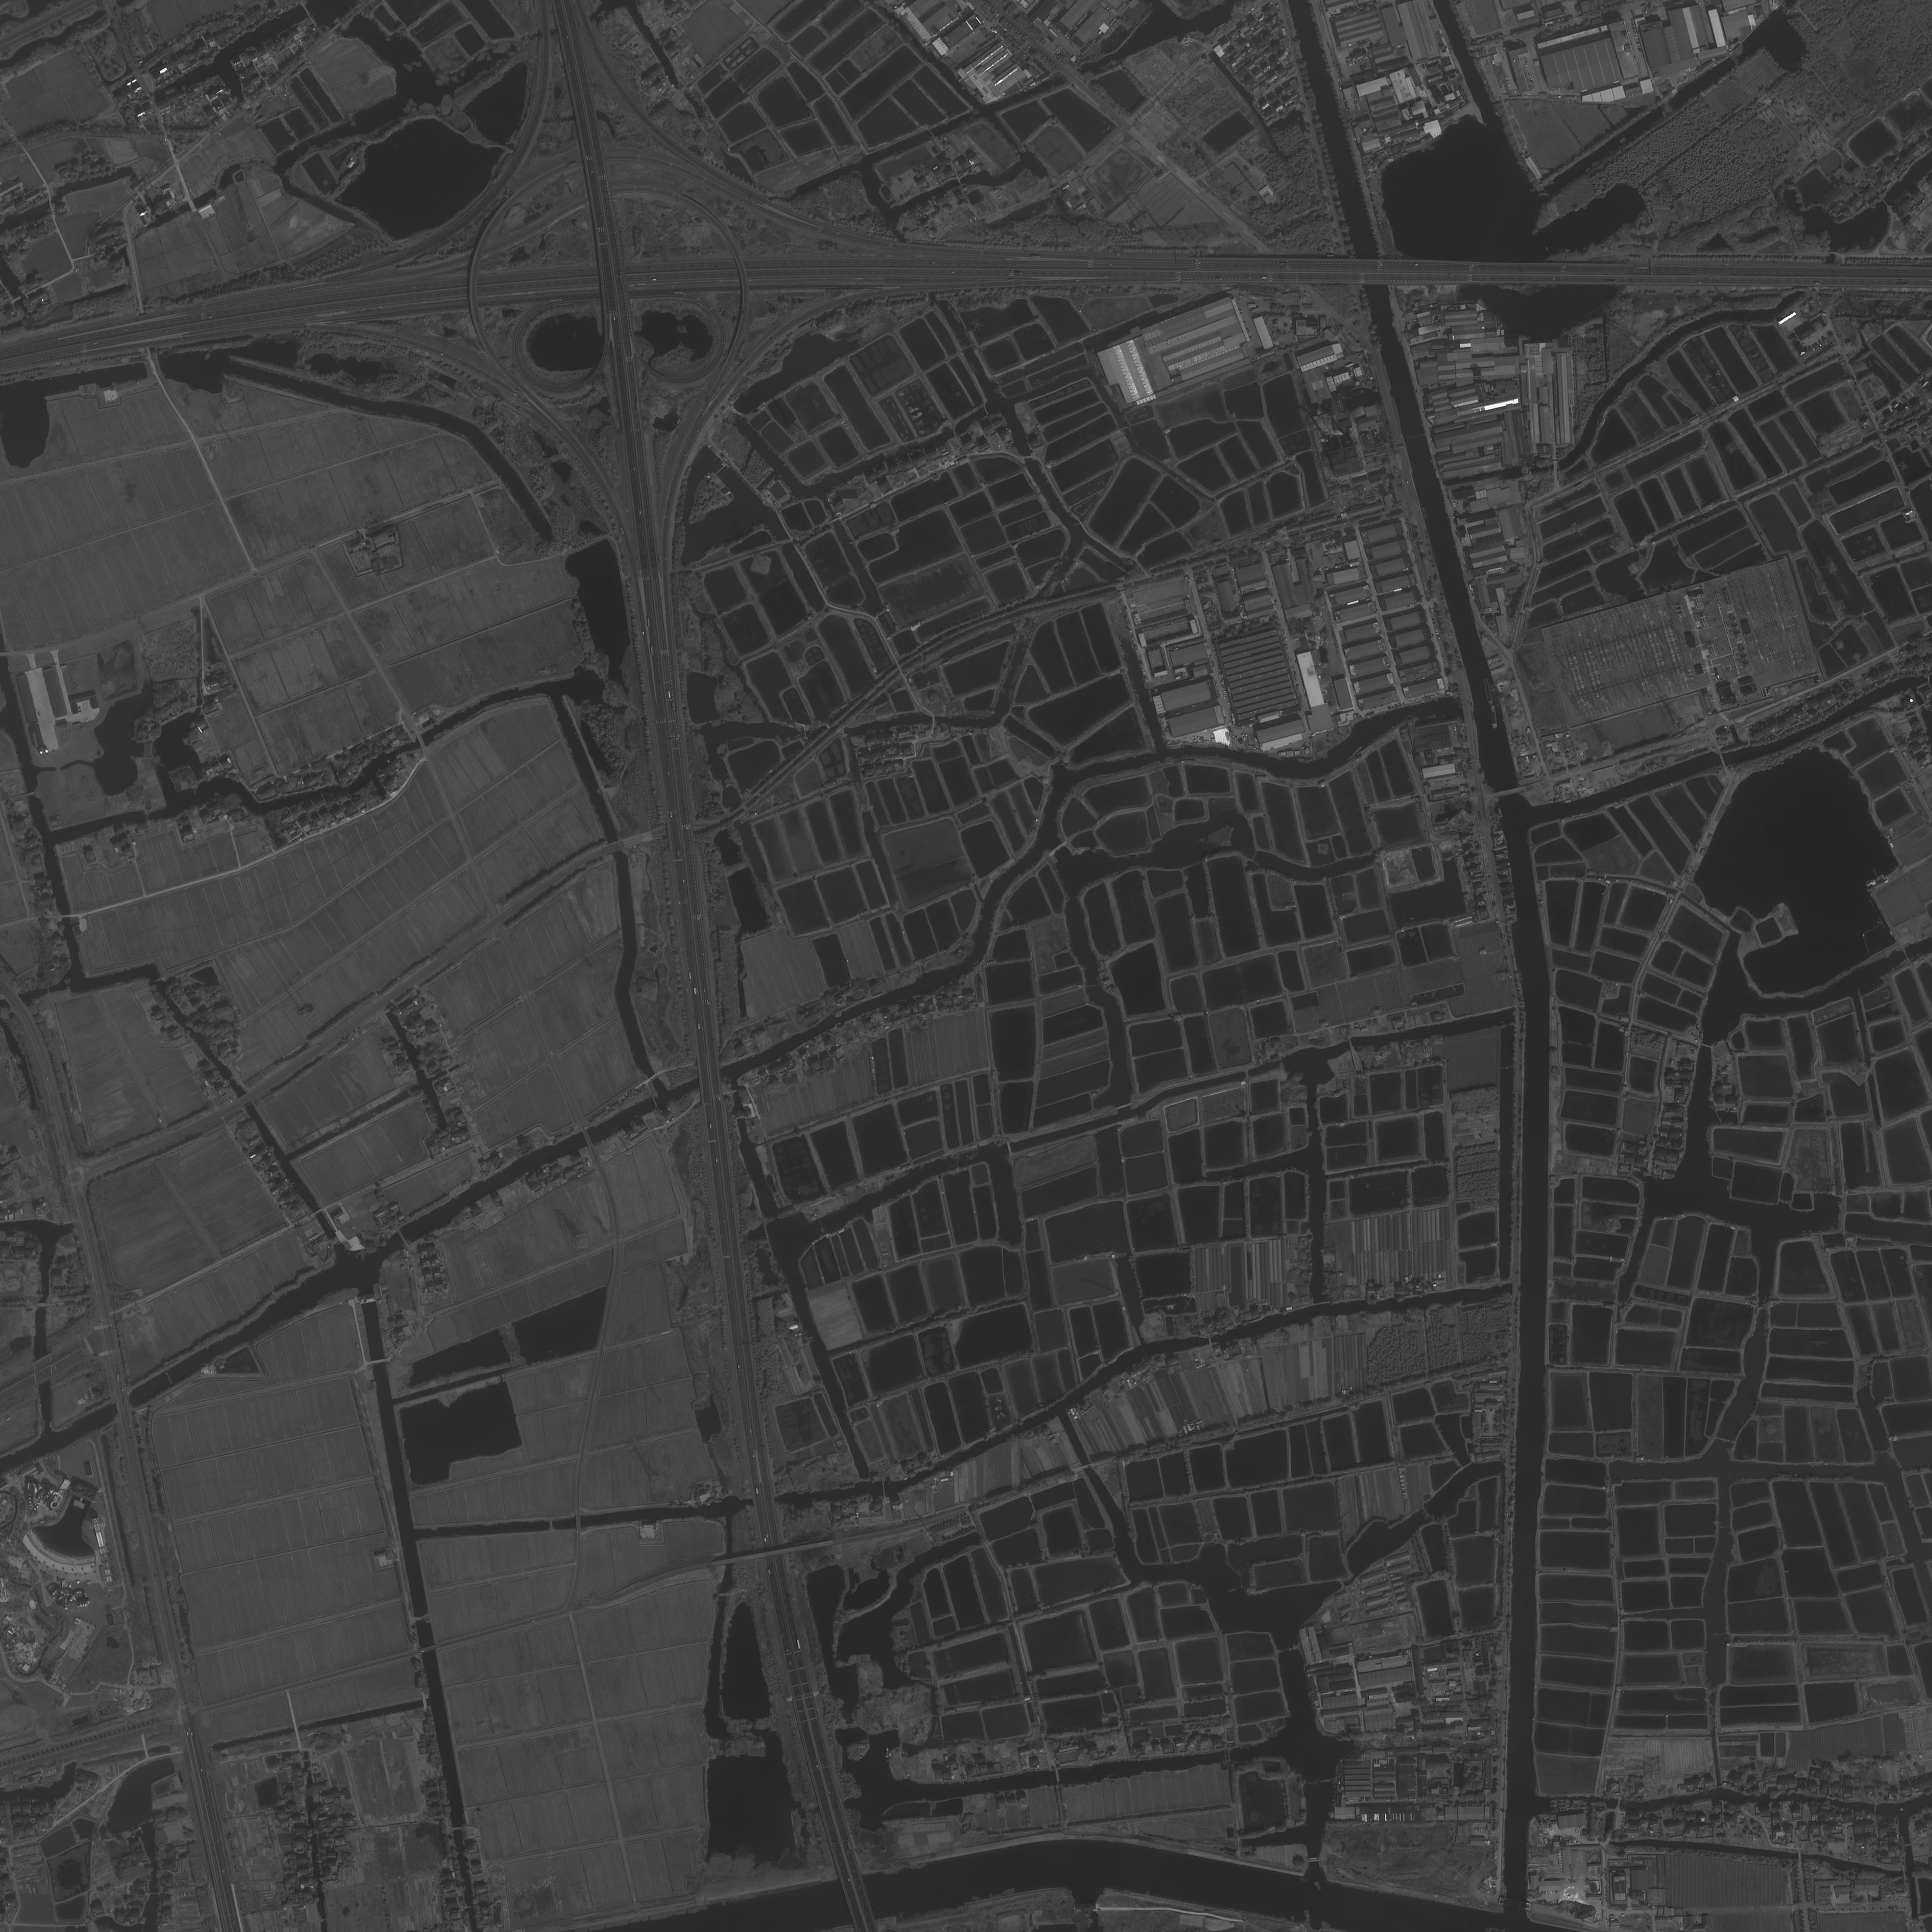ship: (1482, 680, 1493, 707), (1491, 684, 1501, 709), (1490, 706, 1498, 728)
